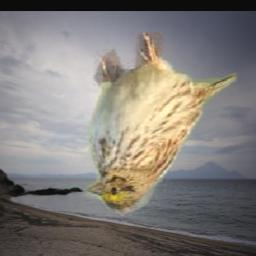Sparrow: (80, 33, 236, 217)
